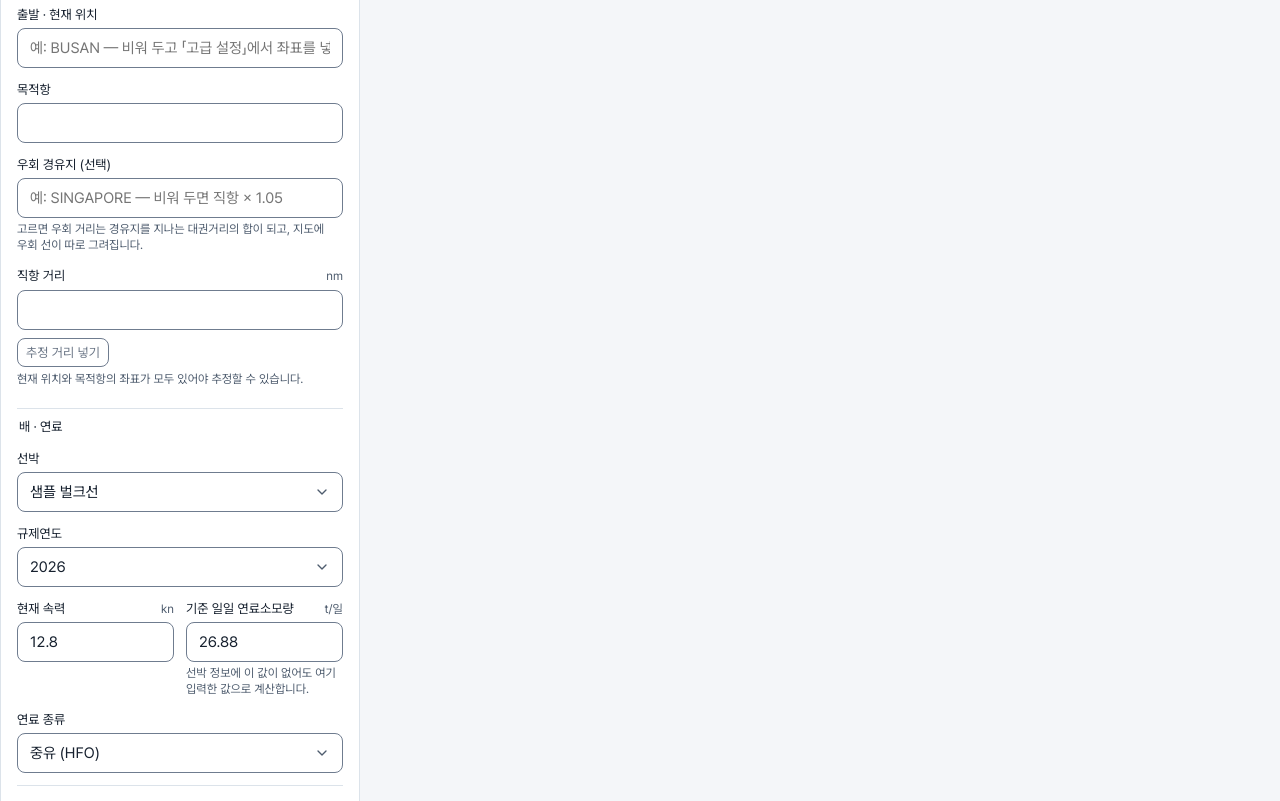
Test case: 서버 경고가 화면에 뜬다 (#821) › 경고 코드마다 `API_SPEC §1.6` 문구를 보여 준다
The image size is (1280, 801).
Expected: the dropdown labelled "규제연도" is shown, top-left (17, 547), bottom-right (343, 587)
Type "1000" into the field labelled "직항 거리 nm" at point(180, 310), box top-left (17, 290), bottom-right (343, 330)
(page scrolled)
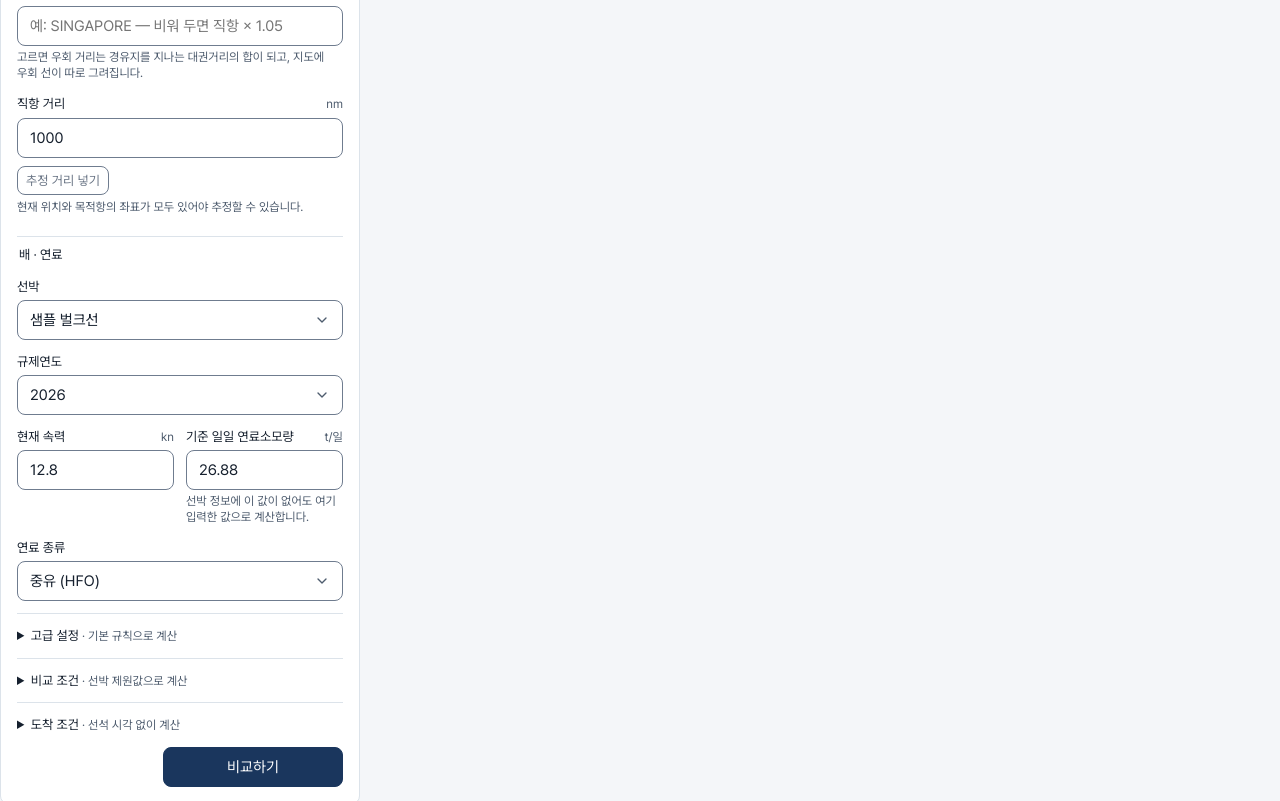
Click the button "비교하기" at point(253, 767), box top-left (163, 747), bottom-right (343, 787)
(page scrolled)
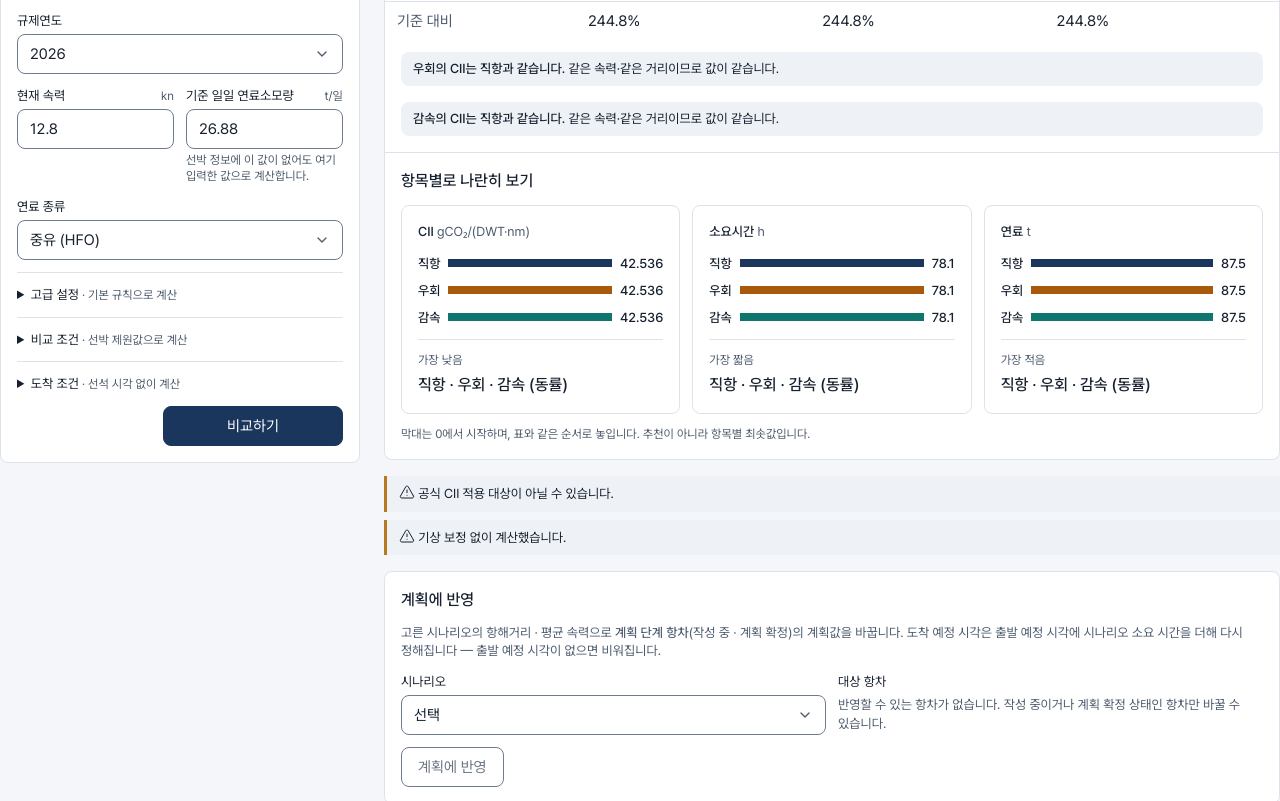
Expected: the list item "공식 CII 적용 대상이 아닐 수 있습니다." is shown, top-left (384, 476), bottom-right (1279, 512)
Expected: the list item "기상 보정 없이 계산했습니다." is shown, top-left (384, 520), bottom-right (1279, 555)
